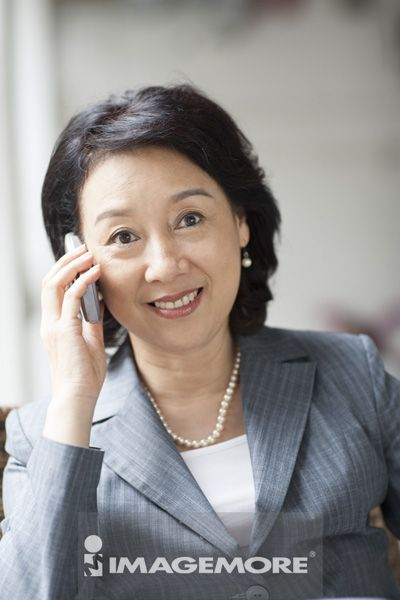talk: (34, 183, 233, 412)
